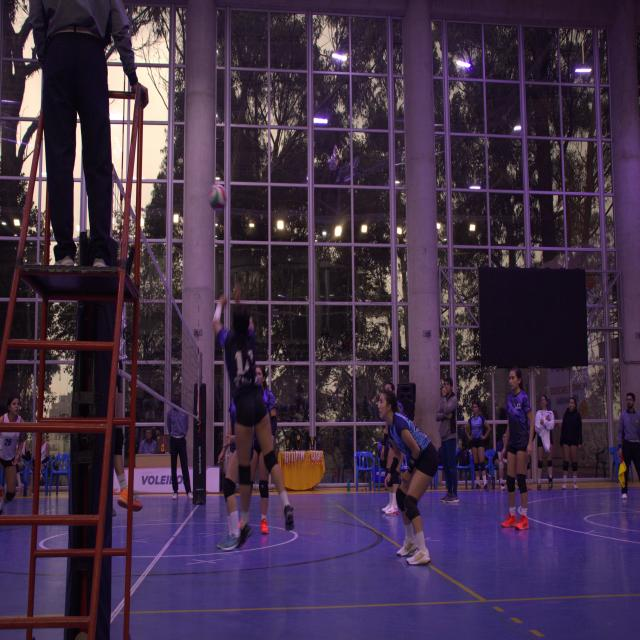volleyball: (211, 184, 227, 213)
